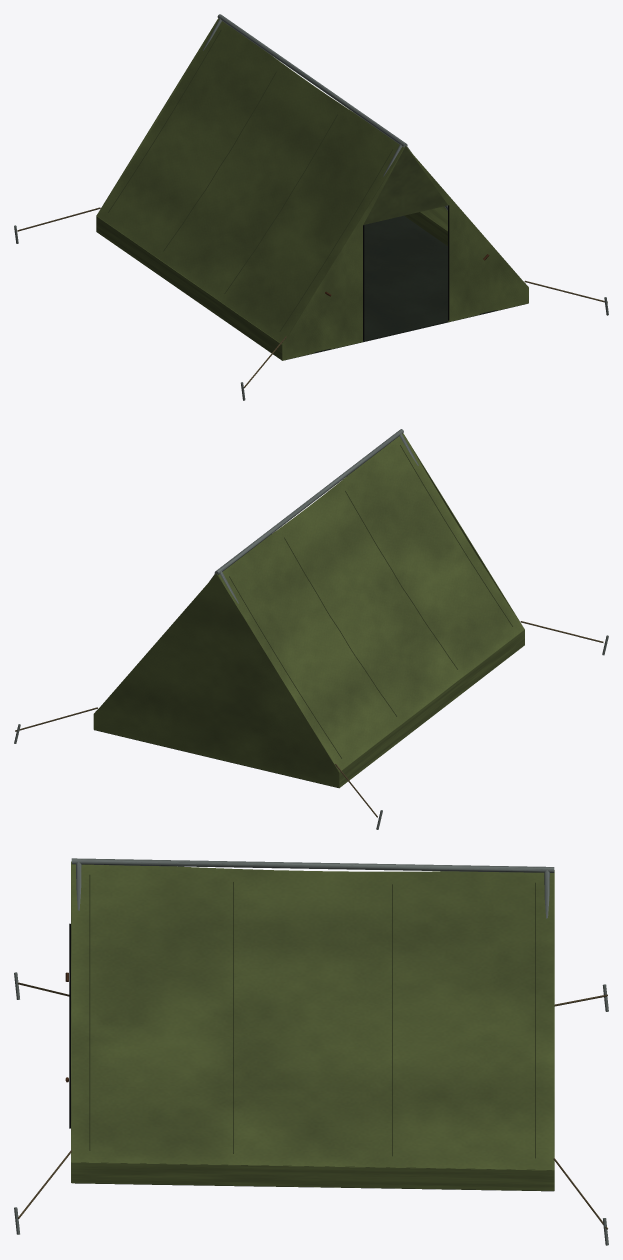
The model's file is level_camp_tent_fitted_pitch_01_siteart.glb.
3 renders of one model, top to bottom at view 1: azimuth 30°, elevation 25°; view 2: azimuth 150°, elevation 25°; view 3: azimuth 270°, elevation 25°, orthographic. The views are drawn at different scales.
Visible parts, largest first — view 1: level_camp_tent_fitted_pitch_01_siteart; view 2: level_camp_tent_fitted_pitch_01_siteart; view 3: level_camp_tent_fitted_pitch_01_siteart.
Part boxes in pixels (x1,y1,x2,y2): level_camp_tent_fitted_pitch_01_siteart: (14,14,608,400); level_camp_tent_fitted_pitch_01_siteart: (14,429,608,829); level_camp_tent_fitted_pitch_01_siteart: (14,858,608,1245).
Size of the model in its own units: 3.9 by 2.11 by 4.19.
Materials: 8 (8 with a texture image).
